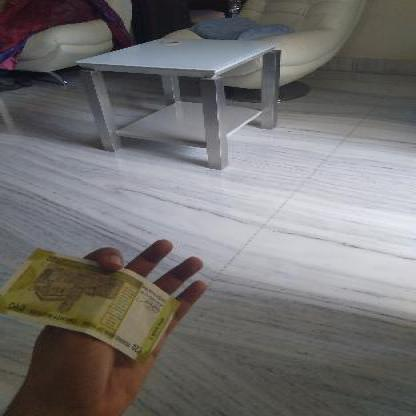New20Back: (2, 242, 185, 360)
